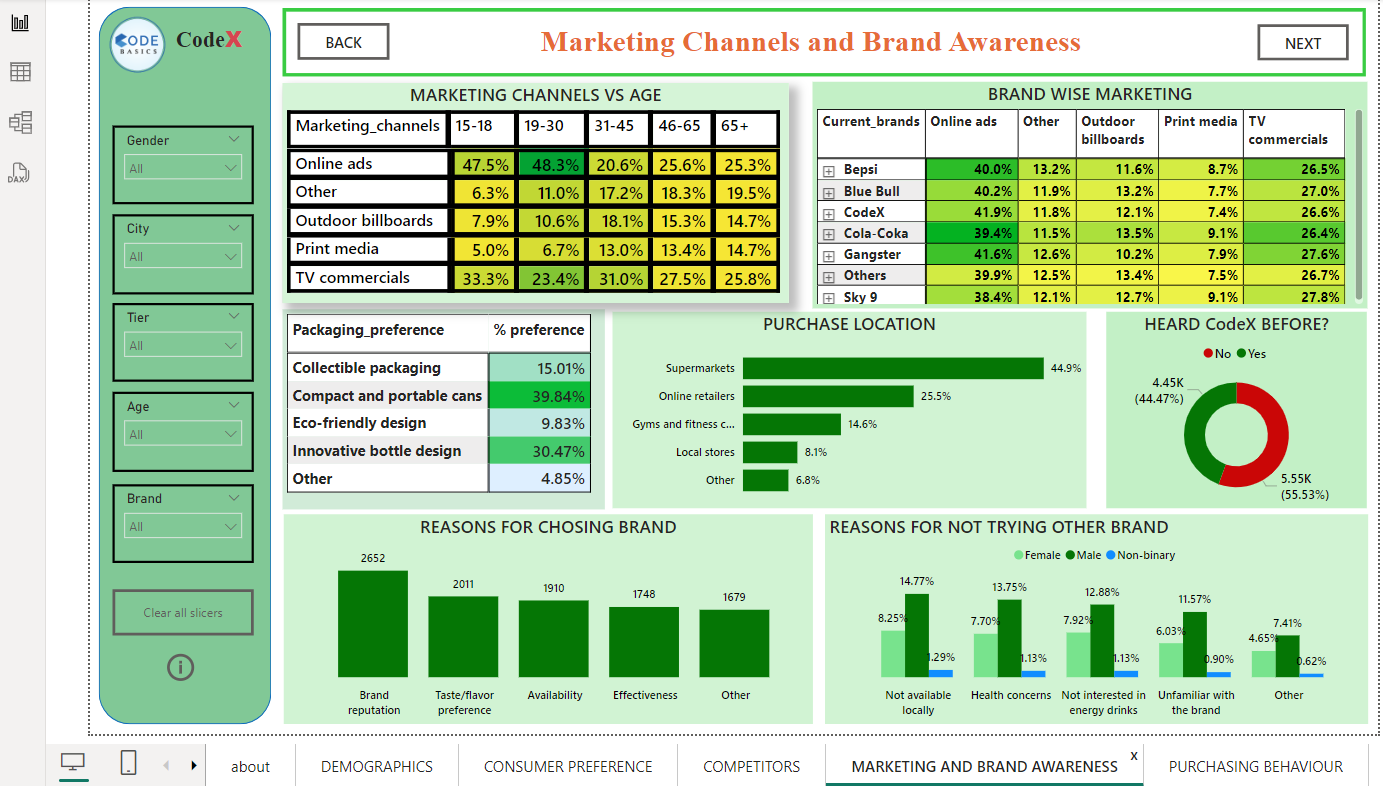

Layout of this report page (visuals, bound fields, positions):
{"tool":"powerbi","page":{"name":"MARKETING AND BRAND AWARENESS","canvas":[1400,800],"ordinal":4},"visuals":[{"type":"shape","box":[9.5,9.5,187.5,779.9],"z":0},{"type":"image","box":[0,13.6,103.3,74.7],"z":1000},{"type":"textbox","box":[88.3,21.7,108.7,53],"z":2000},{"type":"shape","box":[209.2,10.9,1178,74.7],"z":3000},{"type":"pivotTable","title":"AGE ","fields":{"Rows":["survey_response_list.Packaging_preference"],"Values":["Min(survey_response_list.Packaging_preference)"]},"box":[209.2,338.3,350.5,217.4],"z":4000},{"type":"pivotTable","title":"MARKETING CHANNELS VS AGE","fields":{"Rows":["survey_response_list.Marketing_channels"],"Columns":["respondent_list.Age"],"Values":["respondent_list.total count"]},"box":[209.2,92.4,550.3,239.1],"z":5000},{"type":"slicer","fields":{"Values":["respondent_list.Gender"]},"box":[24.5,138.6,153.5,85.6],"z":6000},{"type":"slicer","fields":{"Values":["response_city_list.City"]},"box":[24.5,235.1,153.5,87],"z":7000},{"type":"slicer","fields":{"Values":["response_city_list.Tier"]},"box":[24.5,331.5,153.5,85.6],"z":8000},{"type":"slicer","fields":{"Values":["respondent_list.Age"]},"box":[24.5,428,153.5,87],"z":9000},{"type":"slicer","fields":{"Values":["survey_response_list.Current_brands"]},"box":[24.5,528.5,153.5,85.6],"z":10000},{"type":"actionButton","box":[24.5,642.7,153.5,50.3],"z":11000},{"type":"actionButton","box":[78.8,707.9,99.2,39.4],"z":12000},{"type":"textbox","box":[485.1,23.1,652.2,48.9],"z":13000},{"type":"actionButton","box":[1269,28.5,99.2,39.4],"z":14000},{"type":"actionButton","box":[225.7,27.1,100,40],"z":15000},{"type":"donutChart","title":"HEARD CodeX  BEFORE?","fields":{"Y":["CountNonNull(survey_response_list.Heard_before)"],"Category":["survey_response_list.Heard_before"]},"box":[1105,341.7,283.3,213.3],"z":16000},{"type":"pivotTable","title":"BRAND WISE MARKETING","fields":{"Rows":["survey_response_list.Current_brands","response_city_list.City"],"Columns":["survey_response_list.Marketing_channels"],"Values":["Min(survey_response_list.Marketing_channels)"]},"box":[785,91.7,603.3,246.7],"z":17000},{"type":"clusteredBarChart","title":"PURCHASE LOCATION","fields":{"Category":["survey_response_list.Purchase_location"],"Y":["Divide(CountNonNull(survey_response_list.Purchase_location), ScopedEval(CountNonNull(survey_response_list.Purchase_locat"]},"box":[568.3,341.7,515,213.3],"z":18000},{"type":"clusteredColumnChart","title":"REASONS FOR CHOSING BRAND","fields":{"Category":["survey_response_list.Reasons_for_choosing_brands"],"Y":["respondent_list.total count"]},"box":[210,561.7,575,228.3],"z":19000},{"type":"clusteredColumnChart","title":"REASONS FOR NOT TRYING OTHER BRAND","fields":{"Category":["survey_response_list.Reasons_preventing_trying"],"Series":["respondent_list.Gender"],"Y":["respondent_list.total count"]},"box":[798.3,561.7,590,228.3],"z":20000}]}

Visuals, with their boxes on the page's 1400x800 design canvas (x1, y1, x2, y2). These are canvas units, not pixel positions in the 1383x786 screenshot, which may show the page scaled, cropped or inside an application window:
shape: 10, 10, 197, 789
image: 0, 14, 103, 88
textbox: 88, 22, 197, 75
shape: 209, 11, 1387, 86
"AGE " pivotTable: 209, 338, 560, 556
"MARKETING CHANNELS VS AGE" pivotTable: 209, 92, 760, 332
slicer - respondent_list.Gender: 24, 139, 178, 224
slicer - response_city_list.City: 24, 235, 178, 322
slicer - response_city_list.Tier: 24, 332, 178, 417
slicer - respondent_list.Age: 24, 428, 178, 515
slicer - survey_response_list.Current_brands: 24, 528, 178, 614
actionButton: 24, 643, 178, 693
actionButton: 79, 708, 178, 747
textbox: 485, 23, 1137, 72
actionButton: 1269, 28, 1368, 68
actionButton: 226, 27, 326, 67
"HEARD CodeX  BEFORE?" donutChart: 1105, 342, 1388, 555
"BRAND WISE MARKETING" pivotTable: 785, 92, 1388, 338
"PURCHASE LOCATION" clusteredBarChart: 568, 342, 1083, 555
"REASONS FOR CHOSING BRAND" clusteredColumnChart: 210, 562, 785, 790
"REASONS FOR NOT TRYING OTHER BRAND" clusteredColumnChart: 798, 562, 1388, 790
